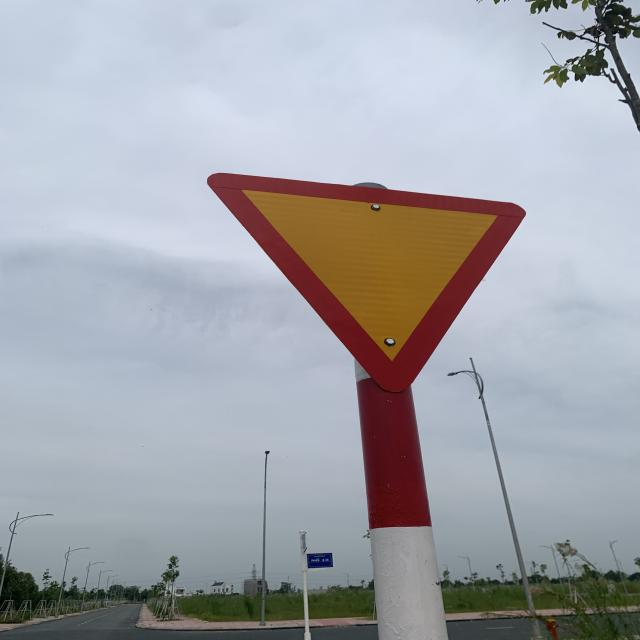Gioi_Han_Toc_Do_25: (208, 171, 530, 394)
